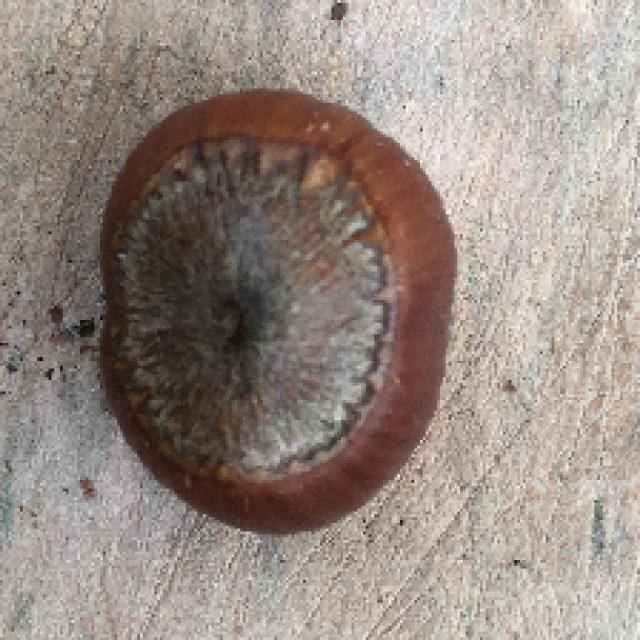qualityHazelnut: (101, 95, 456, 540)
